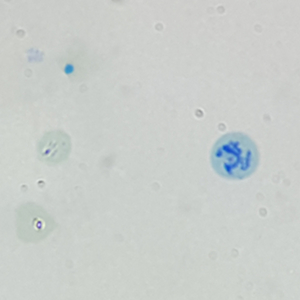aggregate reticulocyte: (208, 130, 262, 182)
erythrocyte: (12, 201, 59, 245), (34, 129, 73, 167)
